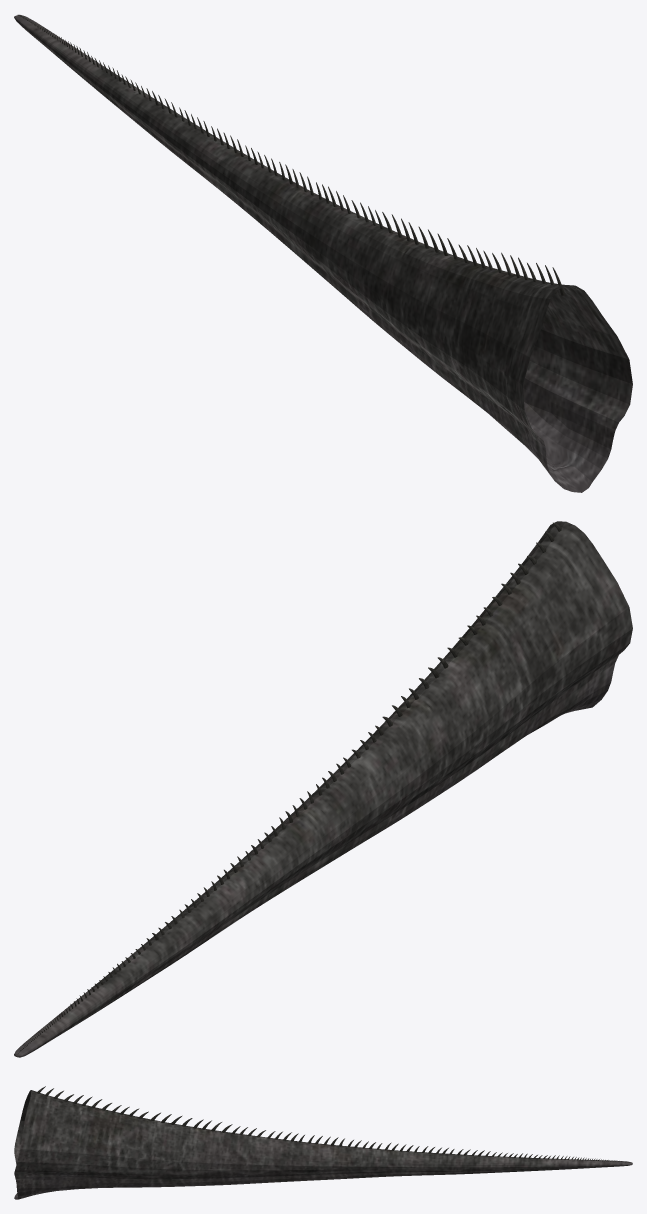
Rendered from DinoLargoCola.obj.
The picture shows the model from 3 angles, top to bottom: view 1: azimuth 30°, elevation 25°; view 2: azimuth 150°, elevation 25°; view 3: azimuth 270°, elevation 25°; orthographic projection. The views are drawn at different scales.
Visible parts, largest first — view 1: cola; view 2: cola; view 3: cola.
Boxes of the visible parts, x1,y1,x2,y2 form: cola: [14, 14, 632, 492]; cola: [14, 521, 632, 1057]; cola: [14, 1086, 632, 1199].
Bounding box in the file's own units: 0.6606 × 1.19 × 5.97.
Materials: 2 (2 with a texture image).
